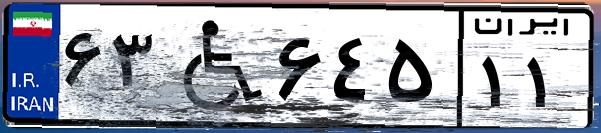1: (475, 38, 525, 113), (525, 38, 570, 115)
3: (110, 28, 158, 98)
4: (330, 28, 385, 110)
5: (385, 28, 445, 110)
6: (270, 28, 330, 110), (57, 26, 110, 100)
ژ (معلولین و جانبازان): (158, 12, 270, 120)
